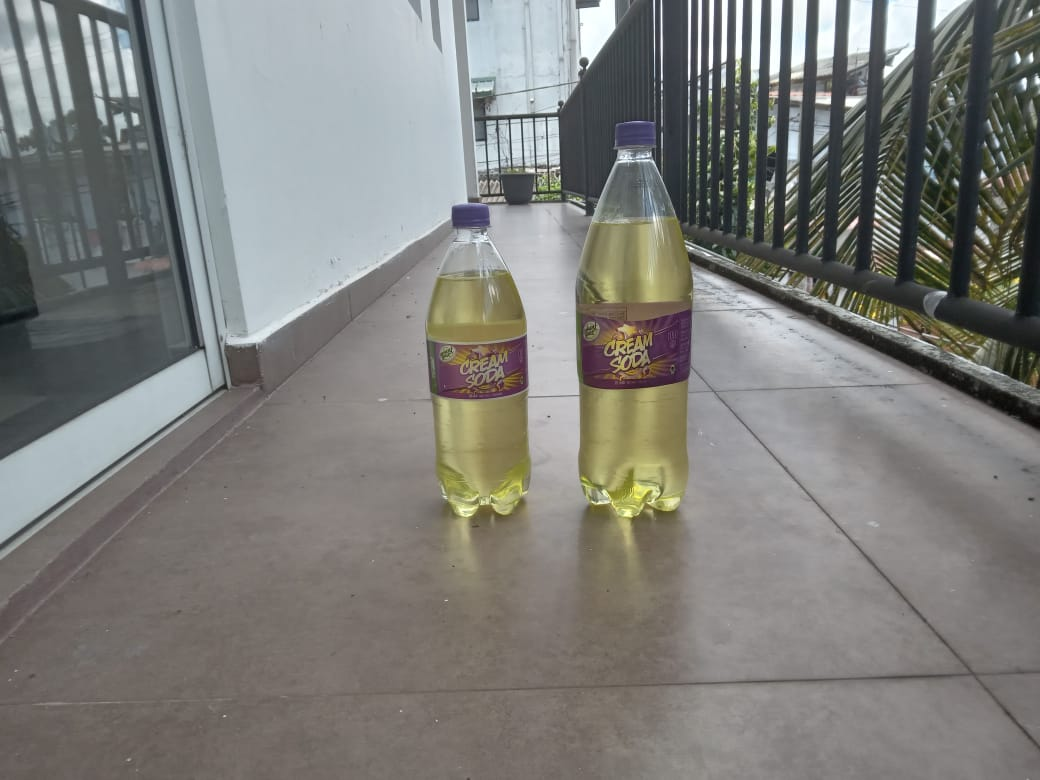L: (575, 123, 691, 518)
M: (424, 201, 534, 522)
